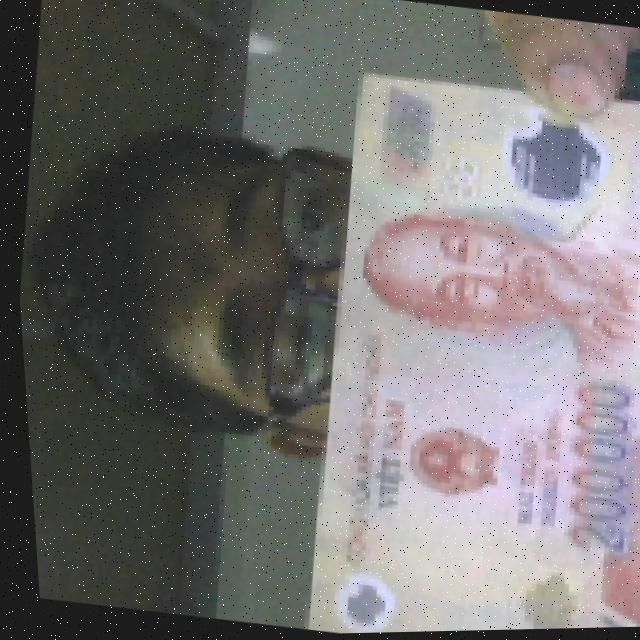200 000 VND: (260, 55, 640, 636)
